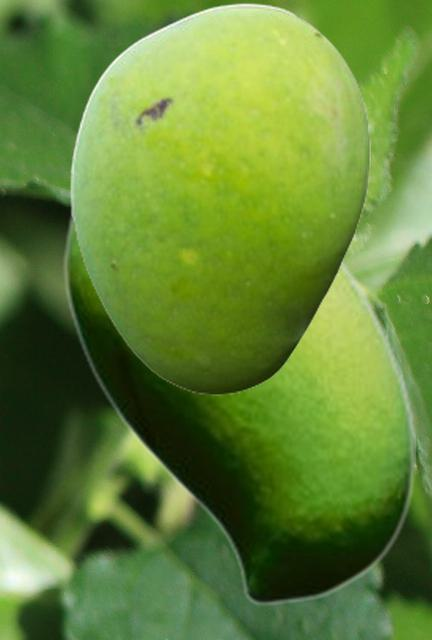green_mango: (62, 204, 414, 605), (69, 2, 369, 394)
